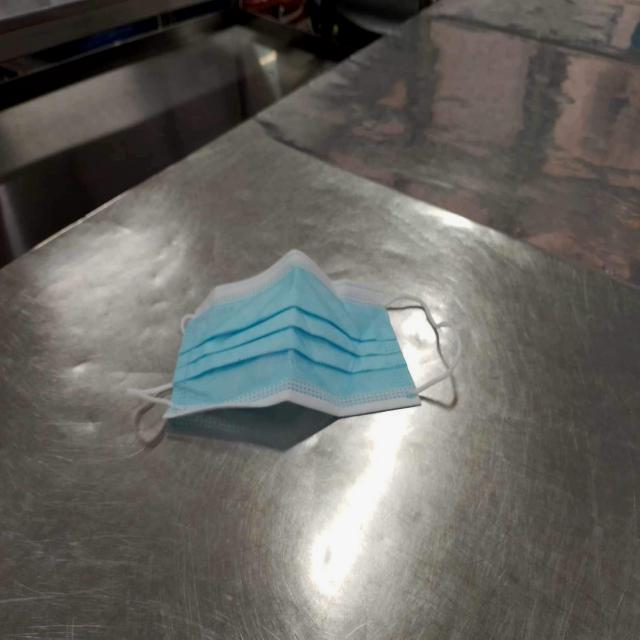General: (132, 247, 460, 454)
